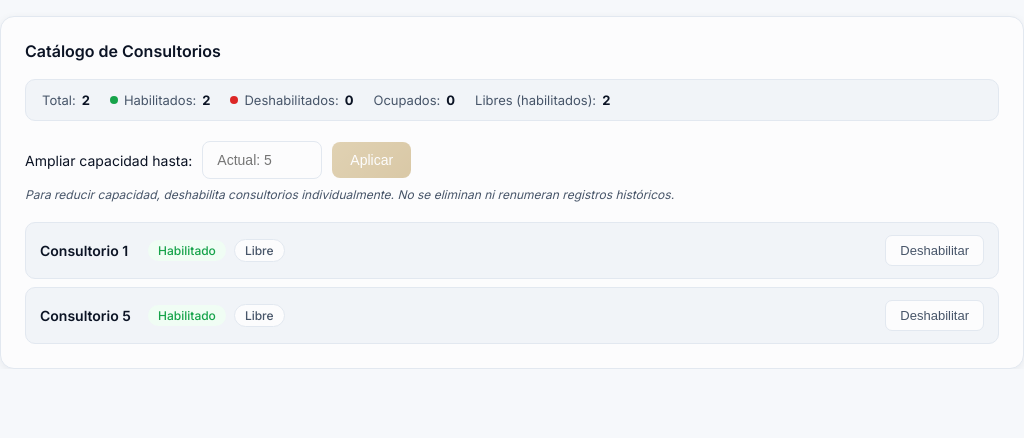
OfficeManager › shows validation message when target is below current max
Type "4" into the number field with test id "office-capacity-input" at (262, 160), box x1=202 y1=141 x2=322 y2=179
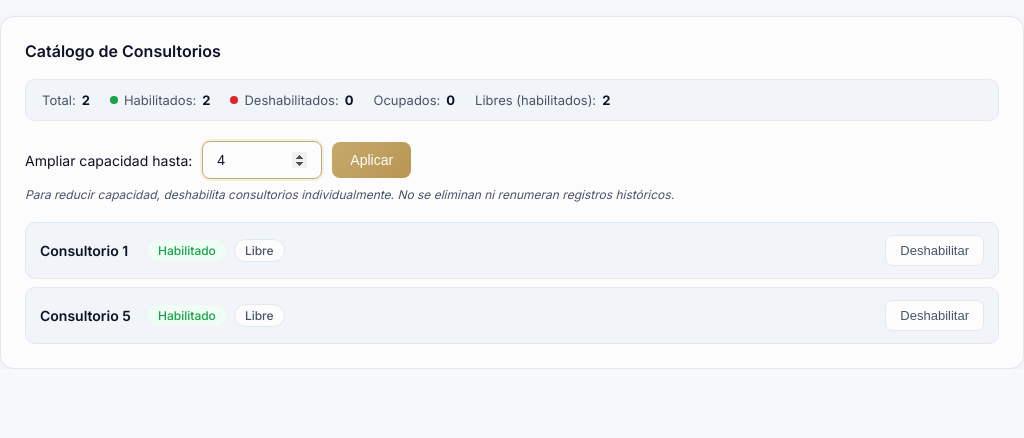
Click the button with test id "btn-apply-capacity" at (372, 160), box x1=332 y1=142 x2=411 y2=178
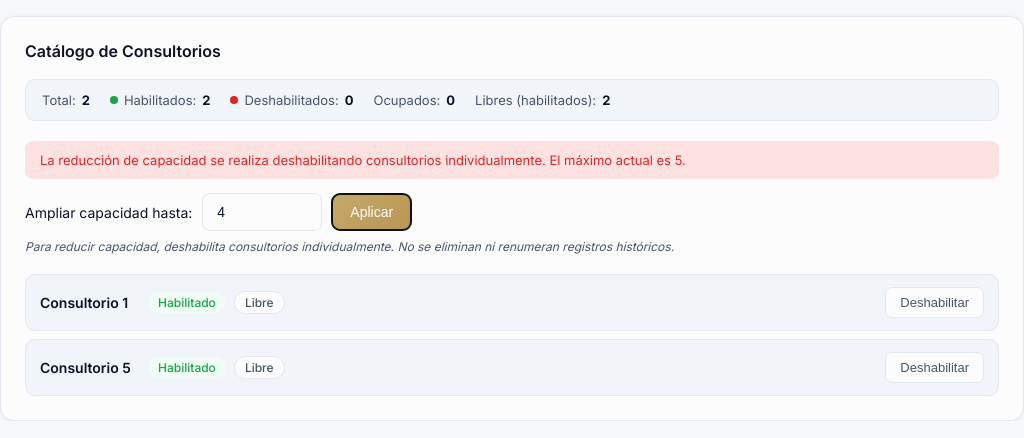
Check: the message with test id "office-error" shows "La reducci.n de capacidad se realiza deshabilitando consultorios", box x1=40 y1=152 x2=686 y2=168
